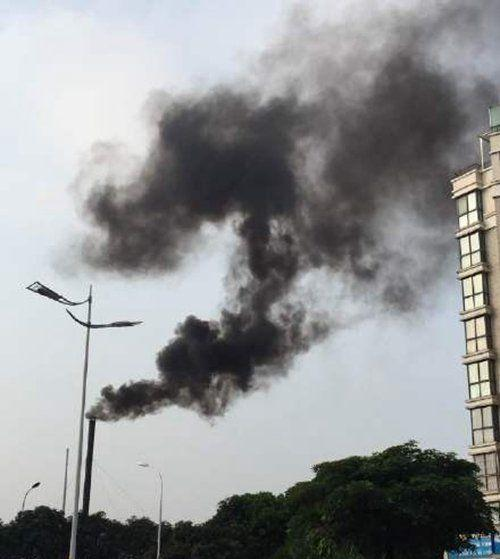smoke: (94, 109, 390, 282), (87, 306, 345, 422)
